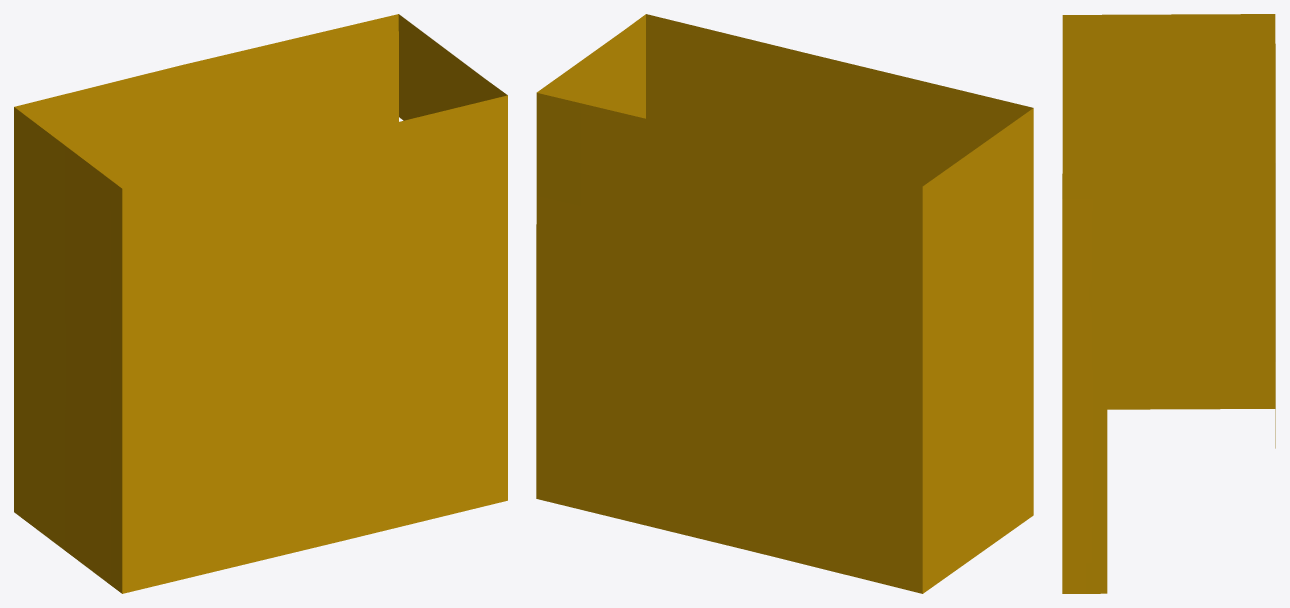
3 renders of one model, left to right at view 1: azimuth 30°, elevation 25°; view 2: azimuth 150°, elevation 25°; view 3: azimuth 270°, elevation 25°, orthographic. The views are drawn at different scales.
Visible parts, largest first — view 1: BH07_WP_06; view 2: BH07_WP_06; view 3: BH07_WP_06.
Part boxes in pixels (box(x1,y1,x2,y2)): BH07_WP_06: box(14, 14, 507, 593); BH07_WP_06: box(536, 14, 1033, 593); BH07_WP_06: box(1062, 14, 1275, 593).
Bounding box in the file's own units: 299 × 302 × 147.
